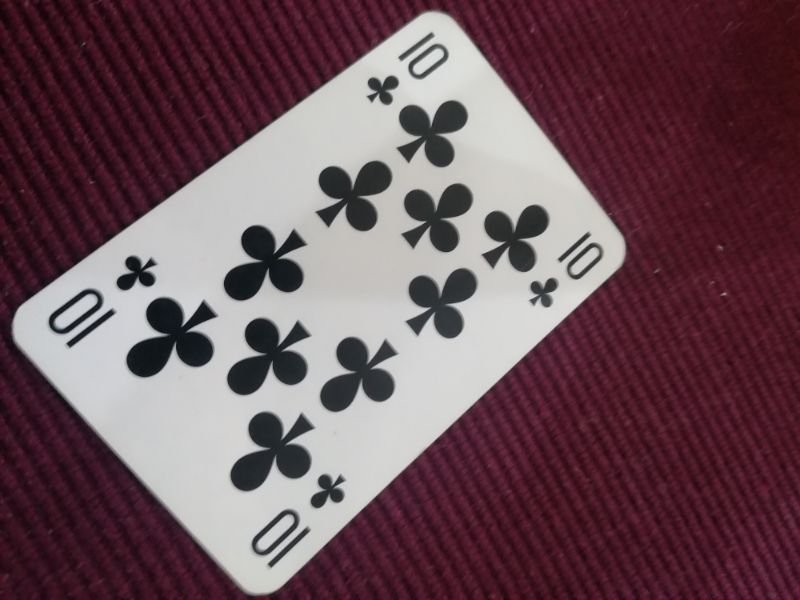Tc: (45, 249, 162, 354), (249, 468, 351, 571), (364, 24, 455, 107), (527, 228, 614, 314)
